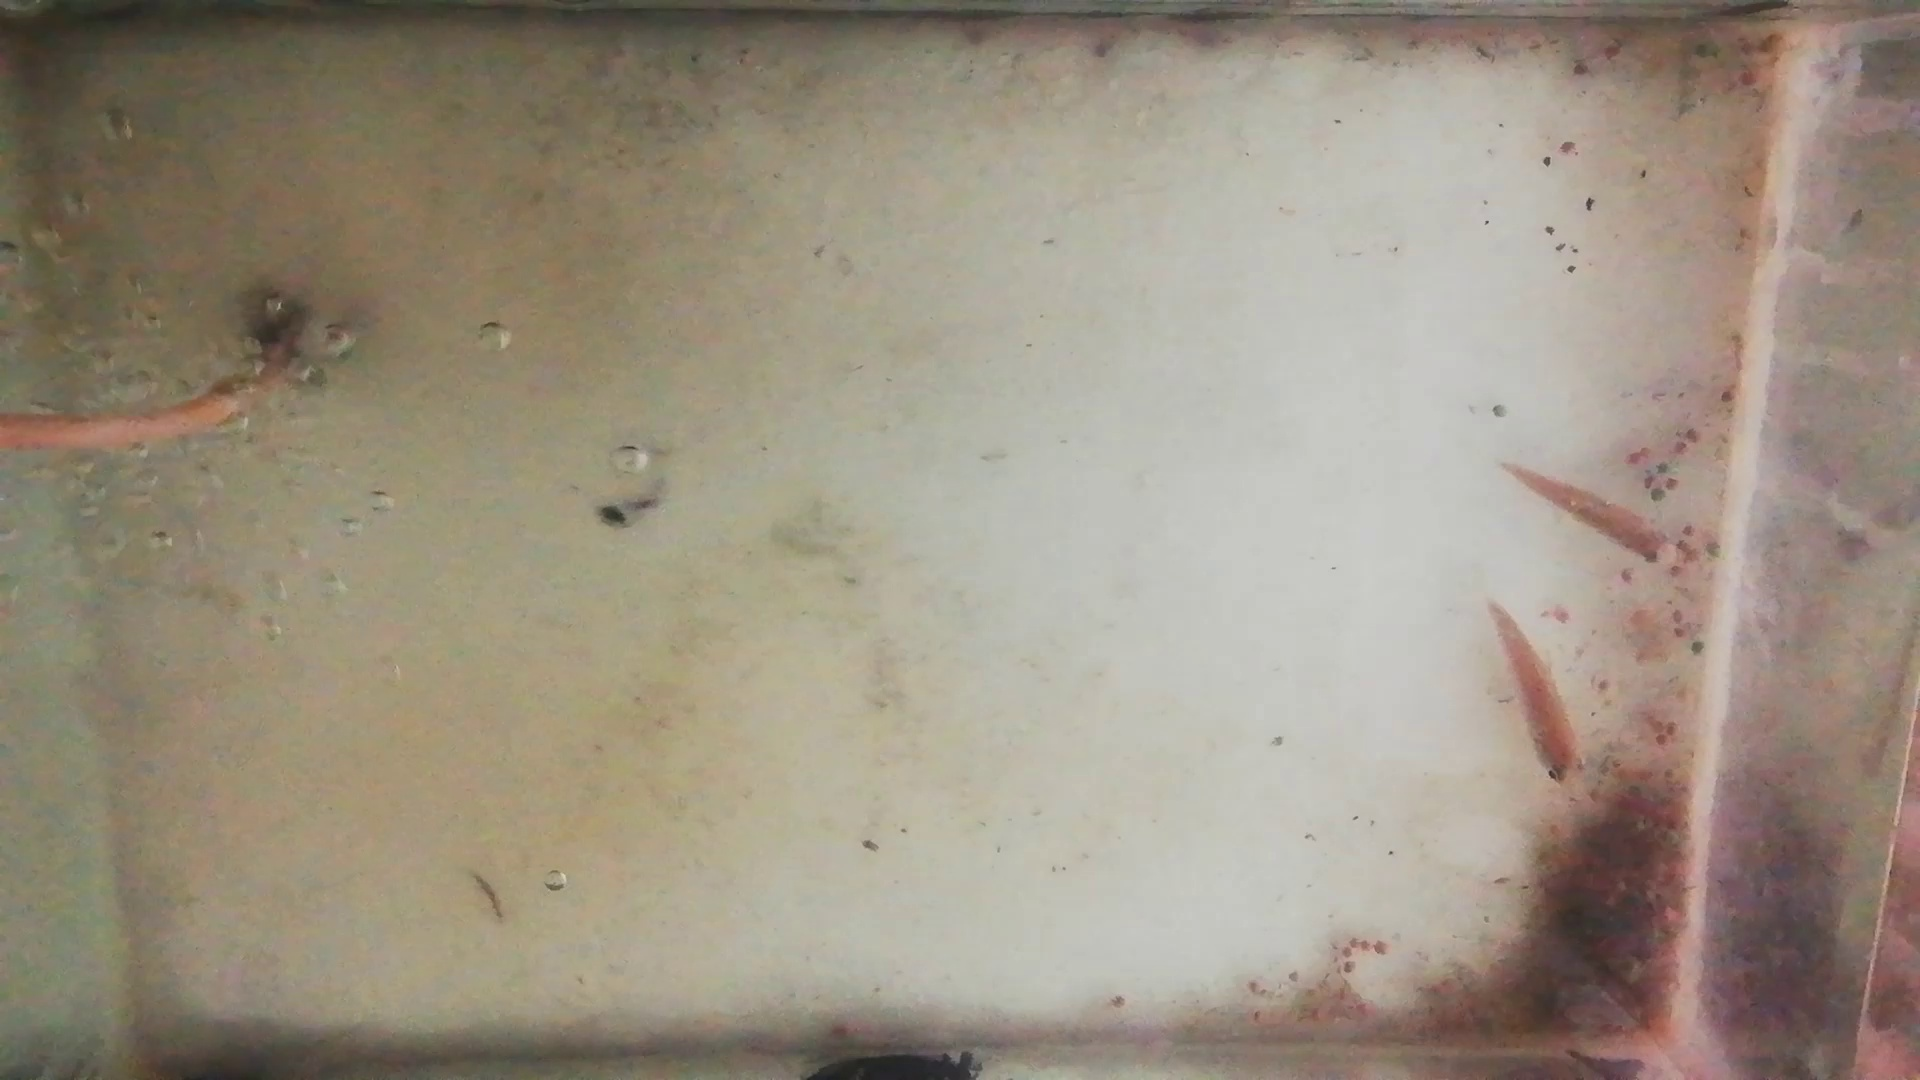fish: (1487, 595, 1584, 794), (1511, 464, 1681, 571)
